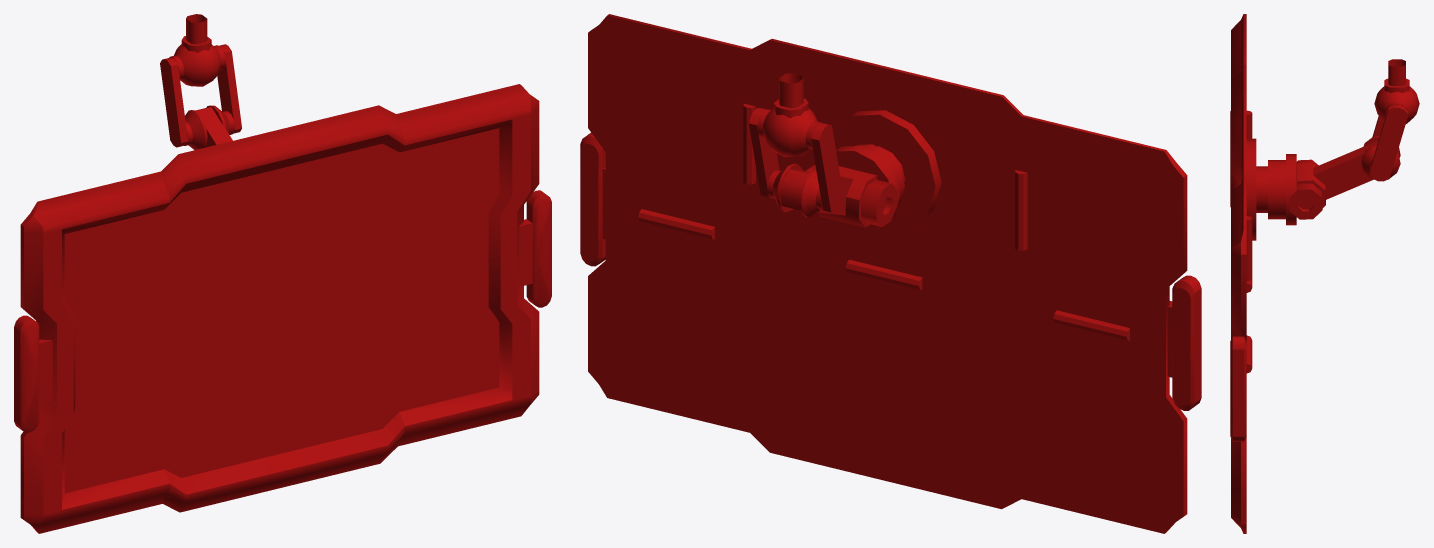
The model's file is M_Companion_Screen.FBX.
3 renders of one model, left to right at view 1: azimuth 30°, elevation 25°; view 2: azimuth 150°, elevation 25°; view 3: azimuth 270°, elevation 25°, orthographic. The views are drawn at different scales.
Parts seen in each view (by area): view 1: Object001; view 2: Object001; view 3: Object001.
Boxes of the visible parts, box(x1,y1,x2,y2) form: Object001: box(14, 14, 551, 533); Object001: box(580, 14, 1201, 533); Object001: box(1230, 14, 1419, 533).
Size of the model in its own units: 38.84 by 28.52 by 13.06.
